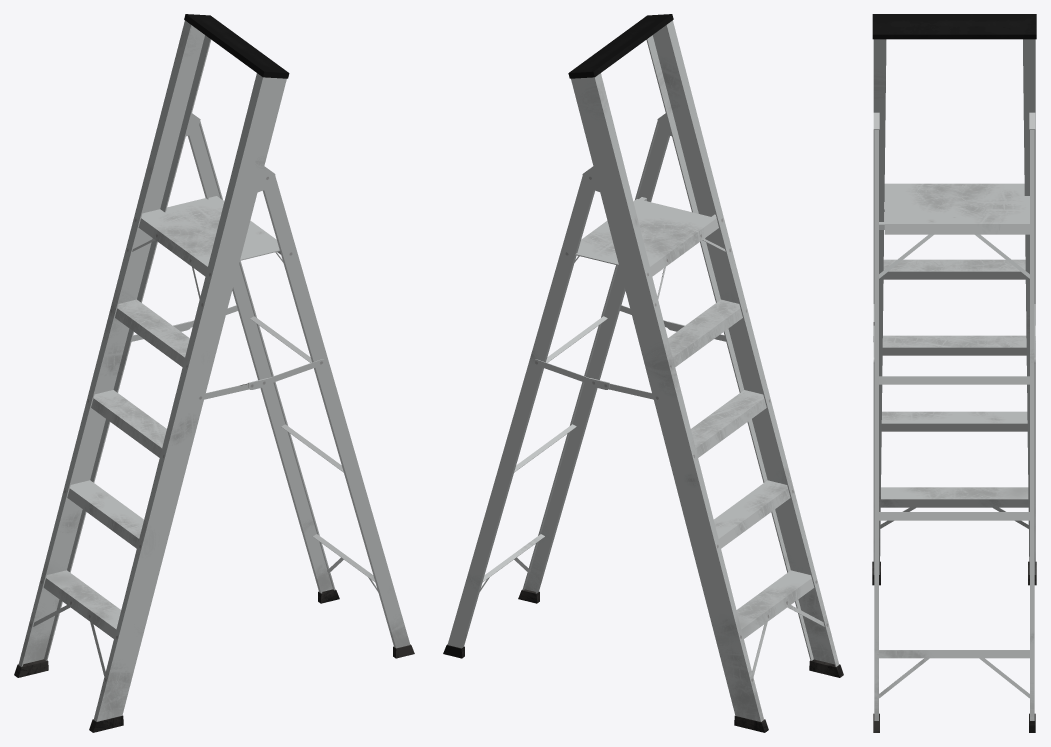
Rendered from step_ladder.glb.
3 renders of one model, left to right at view 1: azimuth 30°, elevation 25°; view 2: azimuth 150°, elevation 25°; view 3: azimuth 270°, elevation 25°, orthographic. The views are drawn at different scales.
Visible parts, largest first — view 1: StepLadder; view 2: StepLadder; view 3: StepLadder.
Part boxes in pixels (x1,y1,x2,y2): StepLadder: (14,14,414,732); StepLadder: (443,14,843,732); StepLadder: (872,14,1036,732).
Bounding box in the file's own units: 111 × 203 × 47.
Materials: 1 (1 with a texture image).
